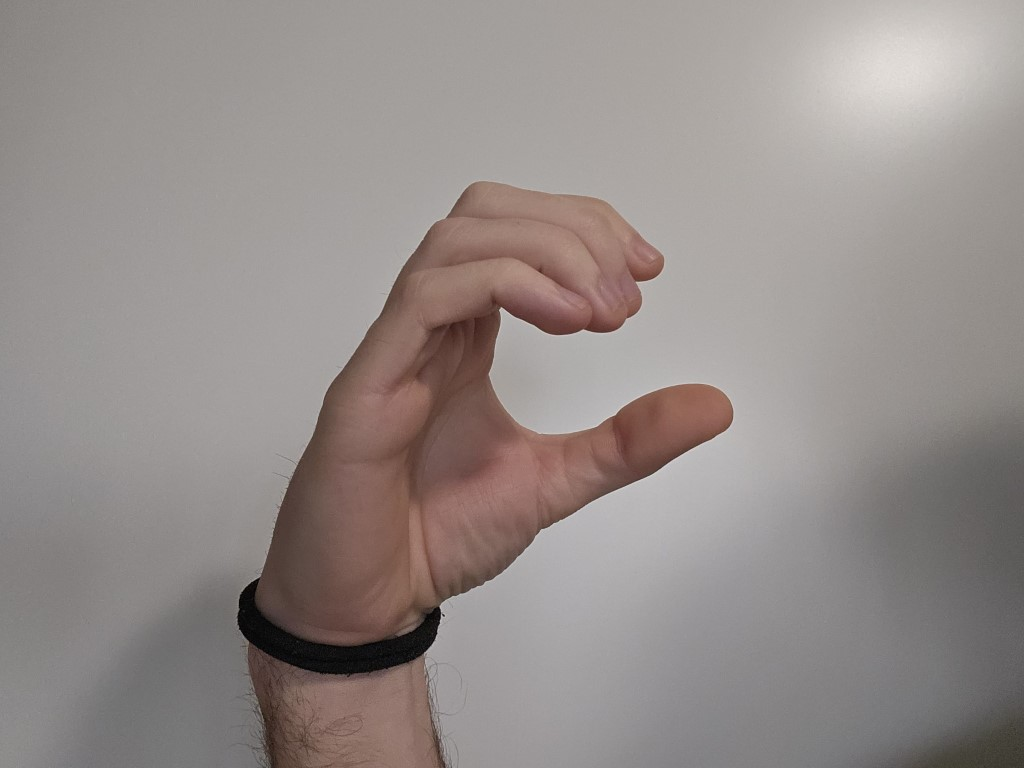c: (256, 116, 785, 610)
